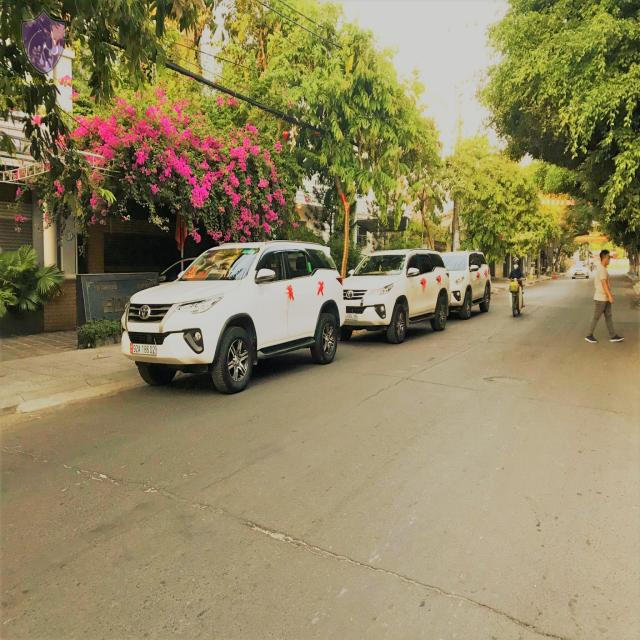car: (119, 240, 335, 375), (335, 243, 448, 329), (446, 242, 486, 317)
